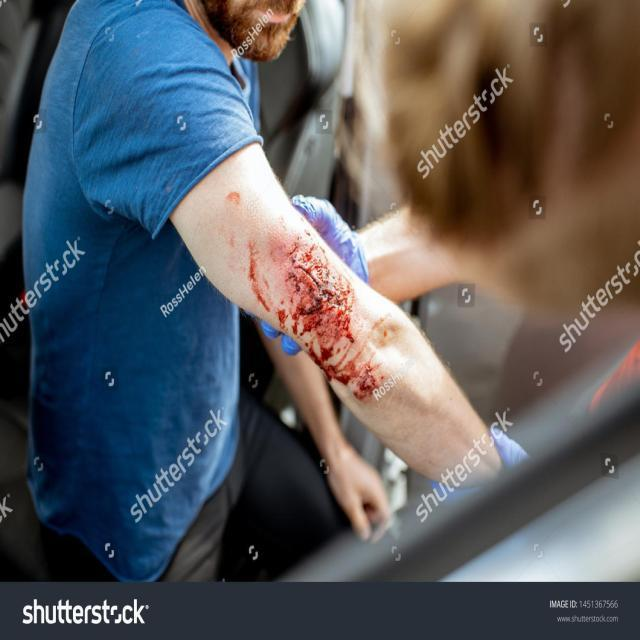flood: (242, 212, 388, 421)
